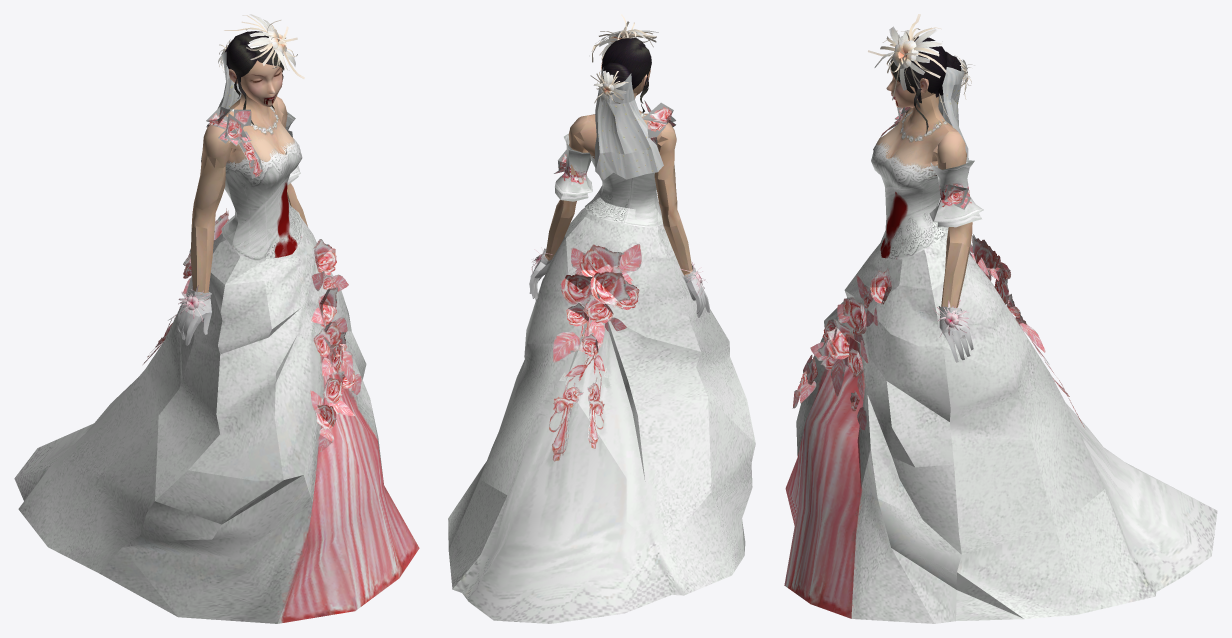
The picture shows the model from 3 angles, left to right: view 1: azimuth 30°, elevation 25°; view 2: azimuth 150°, elevation 25°; view 3: azimuth 270°, elevation 25°; orthographic projection. The views are drawn at different scales.
Visible parts, largest first — view 1: 1fd713b8.obj, 1fe19ed8.obj, 1fe1bc78.obj, 1fd68a68.obj, 1fdbf210.obj; view 2: 1fd713b8.obj, 1fe19ed8.obj, 1fe1bc78.obj, 1fdbf210.obj, 5271a00.obj; view 3: 1fd713b8.obj, 1fe19ed8.obj, 1fe1bc78.obj, 1fdbf210.obj, 1fd68a68.obj.
Part boxes in pixels (<box>): 1fd713b8.obj: <box>14,208,419,623</box>; 1fe19ed8.obj: <box>190,93,307,292</box>; 1fe1bc78.obj: <box>201,14,304,162</box>; 1fd68a68.obj: <box>229,60,282,106</box>; 1fdbf210.obj: <box>177,292,211,345</box>; 1fd713b8.obj: <box>448,207,755,623</box>; 1fe19ed8.obj: <box>545,93,692,274</box>; 1fe1bc78.obj: <box>590,14,663,179</box>; 1fdbf210.obj: <box>529,254,709,317</box>; 5271a00.obj: <box>530,247,705,295</box>; 1fd713b8.obj: <box>784,234,1217,623</box>; 1fe19ed8.obj: <box>871,94,983,307</box>; 1fe1bc78.obj: <box>868,14,974,172</box>; 1fdbf210.obj: <box>939,306,973,362</box>; 1fd68a68.obj: <box>886,68,934,107</box>.
Bounding box in the file's own units: 1.02 × 1.78 × 1.27.
